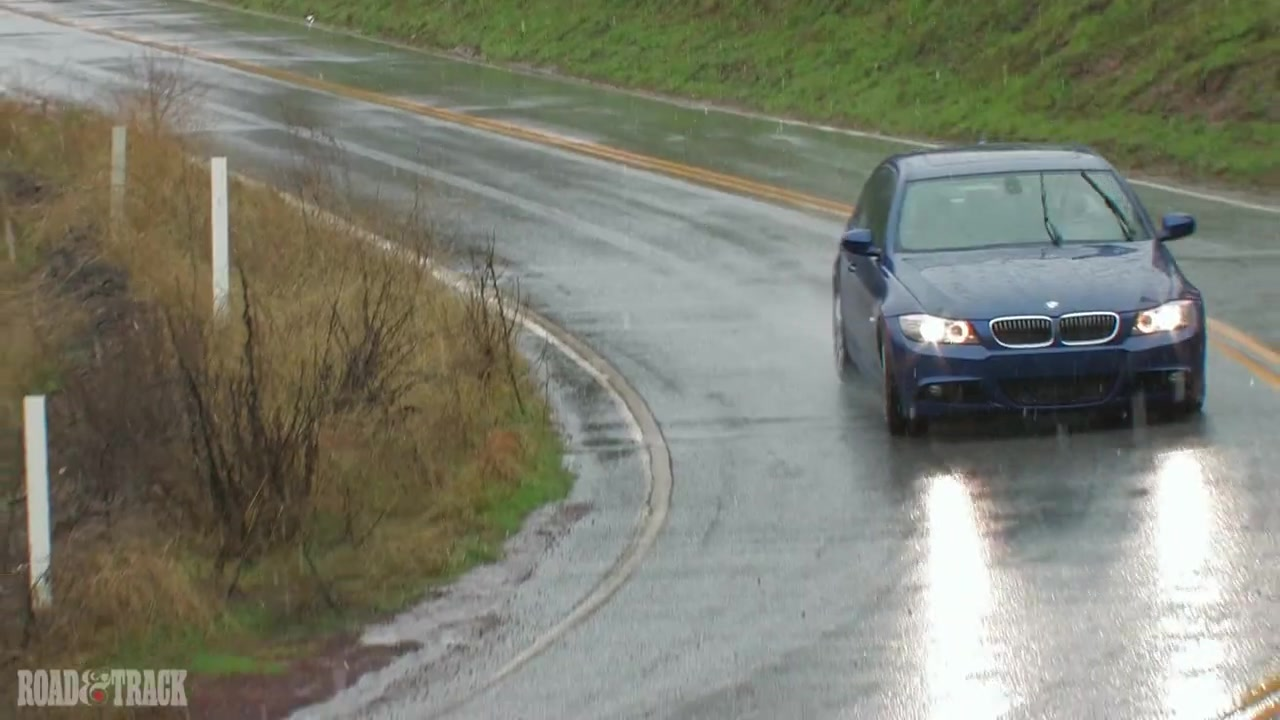car: (824, 150, 1212, 437)
